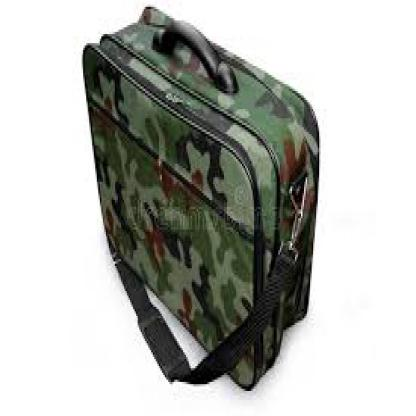morral: (80, 5, 351, 393)
